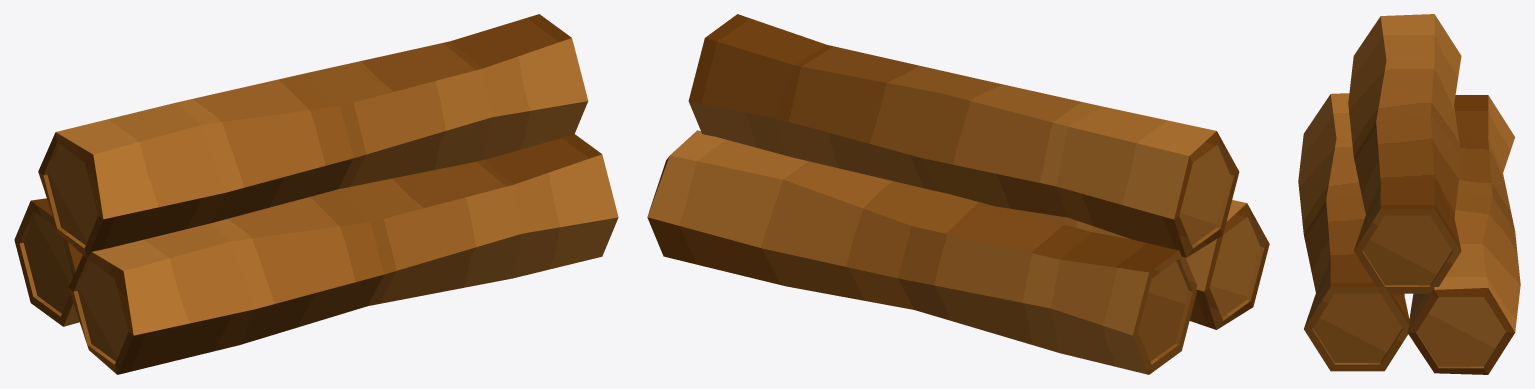
File: Tree_Logs.fbx
3 renders of one model, left to right at view 1: azimuth 30°, elevation 25°; view 2: azimuth 150°, elevation 25°; view 3: azimuth 270°, elevation 25°, orthographic. The views are drawn at different scales.
Visible parts, largest first — view 1: Tree_Logs; view 2: Tree_Logs; view 3: Tree_Logs.
Part boxes in pixels (bbox=[...]): Tree_Logs: bbox=[14, 14, 618, 374]; Tree_Logs: bbox=[647, 14, 1269, 374]; Tree_Logs: bbox=[1298, 14, 1520, 374].
Size of the model in its own units: 186 by 70.75 by 87.8.
